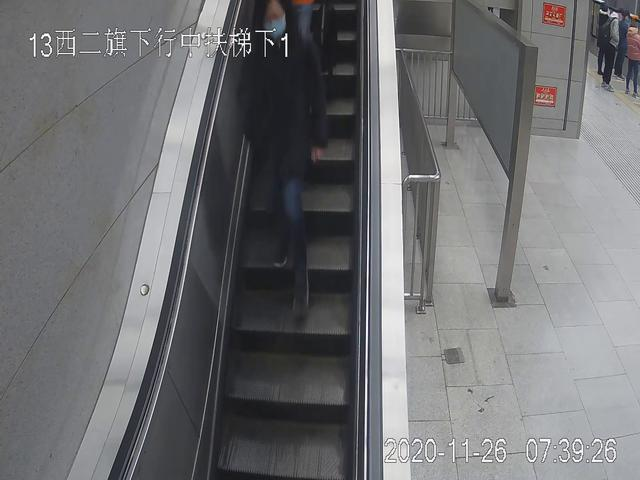person: (241, 2, 326, 325), (597, 8, 620, 95), (625, 21, 640, 96)
